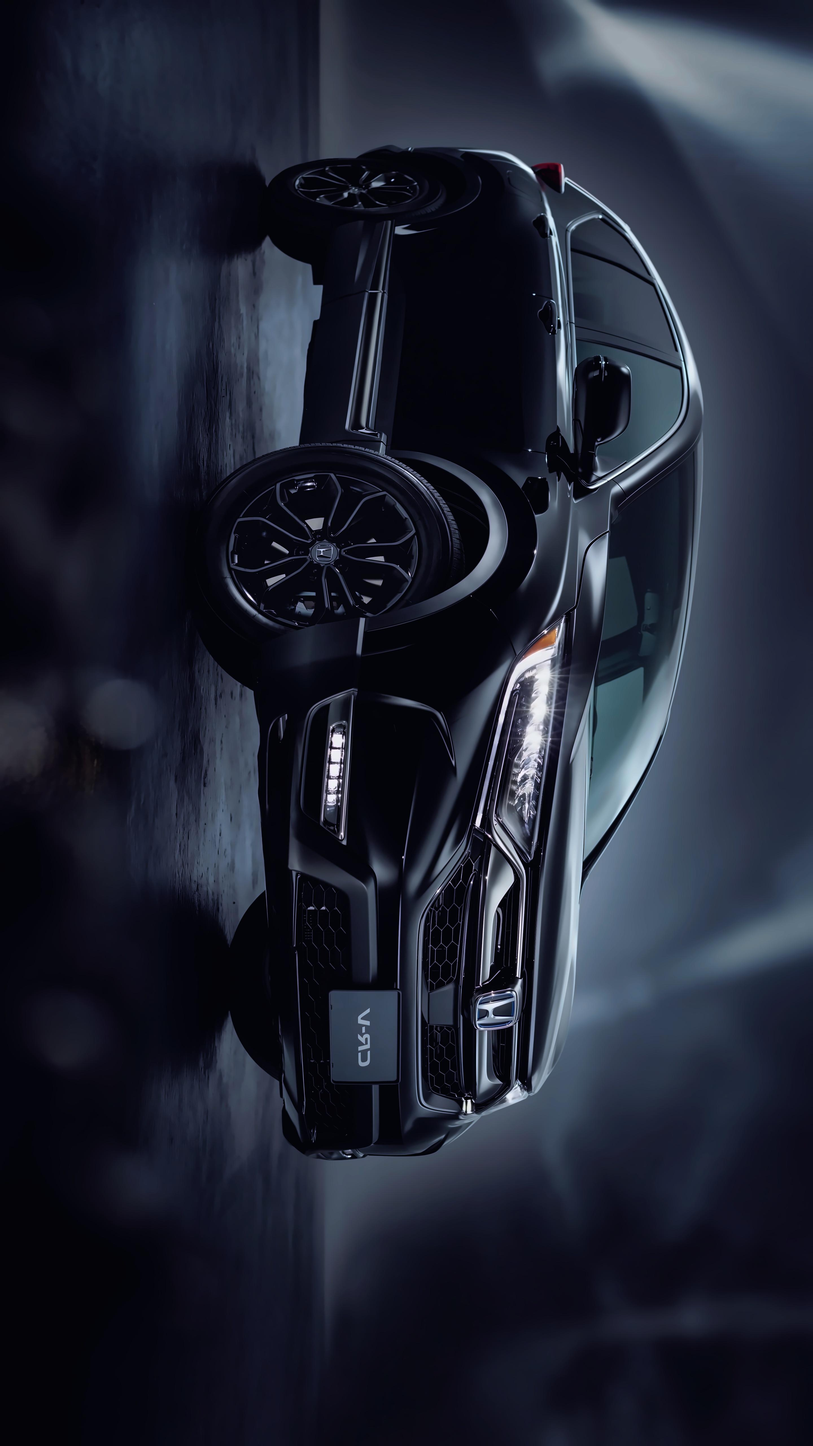Car hood: (537, 525, 598, 1091)
Driver-s door - -F-R-: (278, 296, 704, 484)
Fender - -F-R-: (255, 441, 563, 661)
Fender - -R-R-: (320, 126, 620, 224)
Front bumper: (255, 618, 514, 1170)
Headlight - -R-: (475, 617, 562, 871)
Passenger-s door - -R-R-: (310, 210, 701, 367)
Side bumper - -R-: (288, 211, 446, 464)
Side mirror - -R-: (540, 350, 637, 495)
